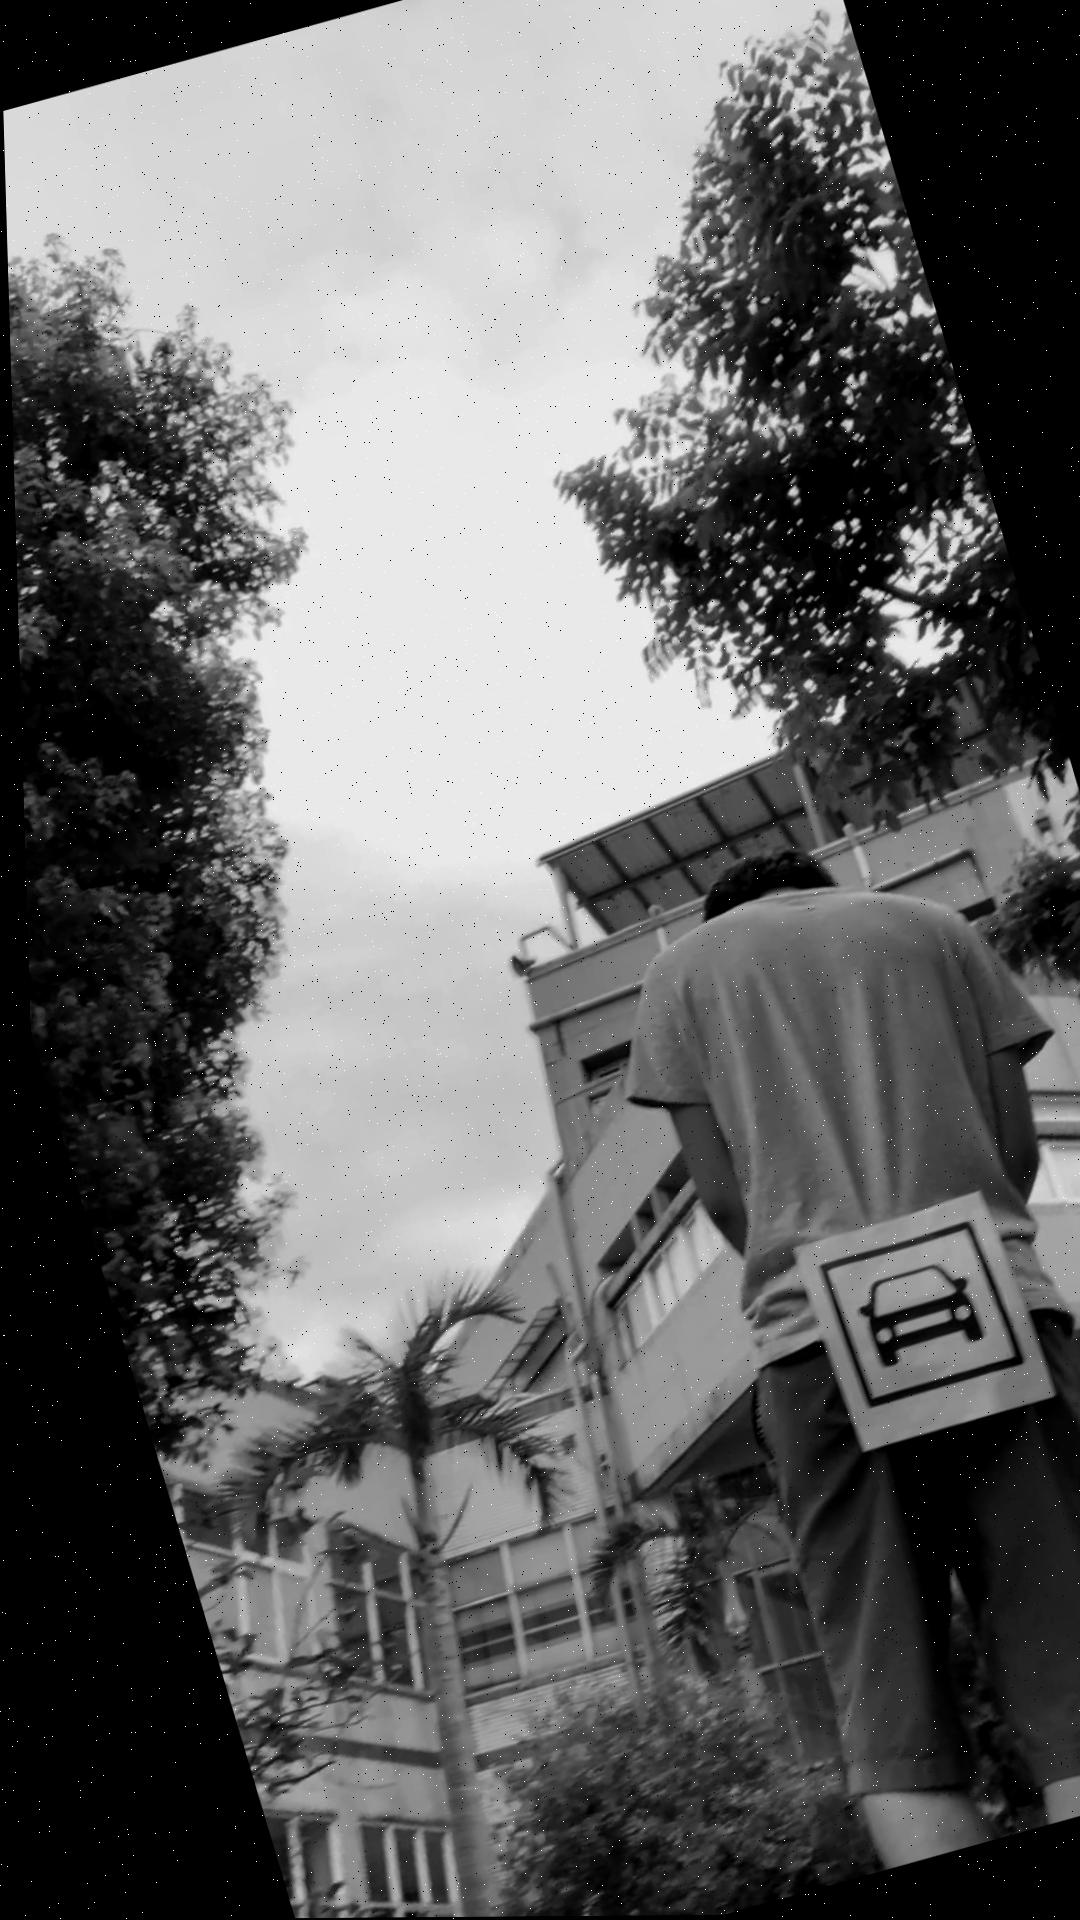car_img: (806, 1217, 1019, 1414)
